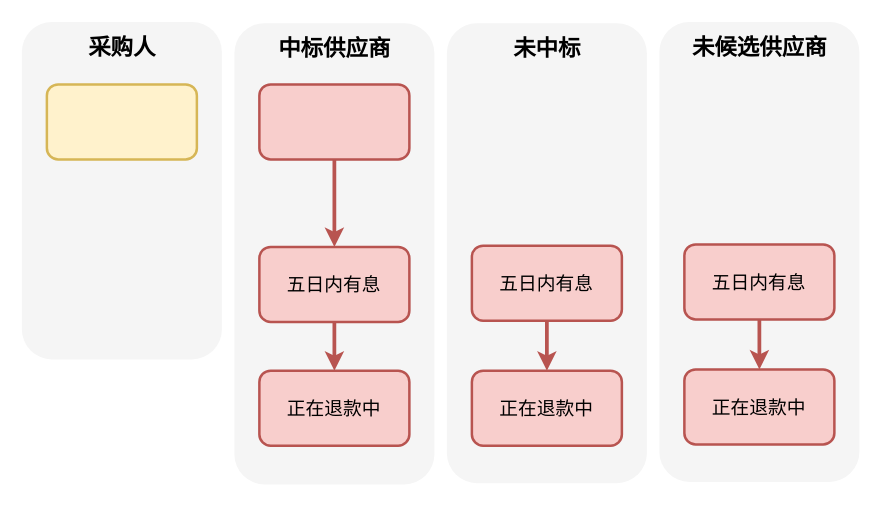
The diagram is 880 pixels wide and 505 high, and some of its shapes have lost their labels. Each missing label, with the box of its shape:
同意退款: (45, 82, 198, 160)
支付服务费: (258, 82, 410, 160)
